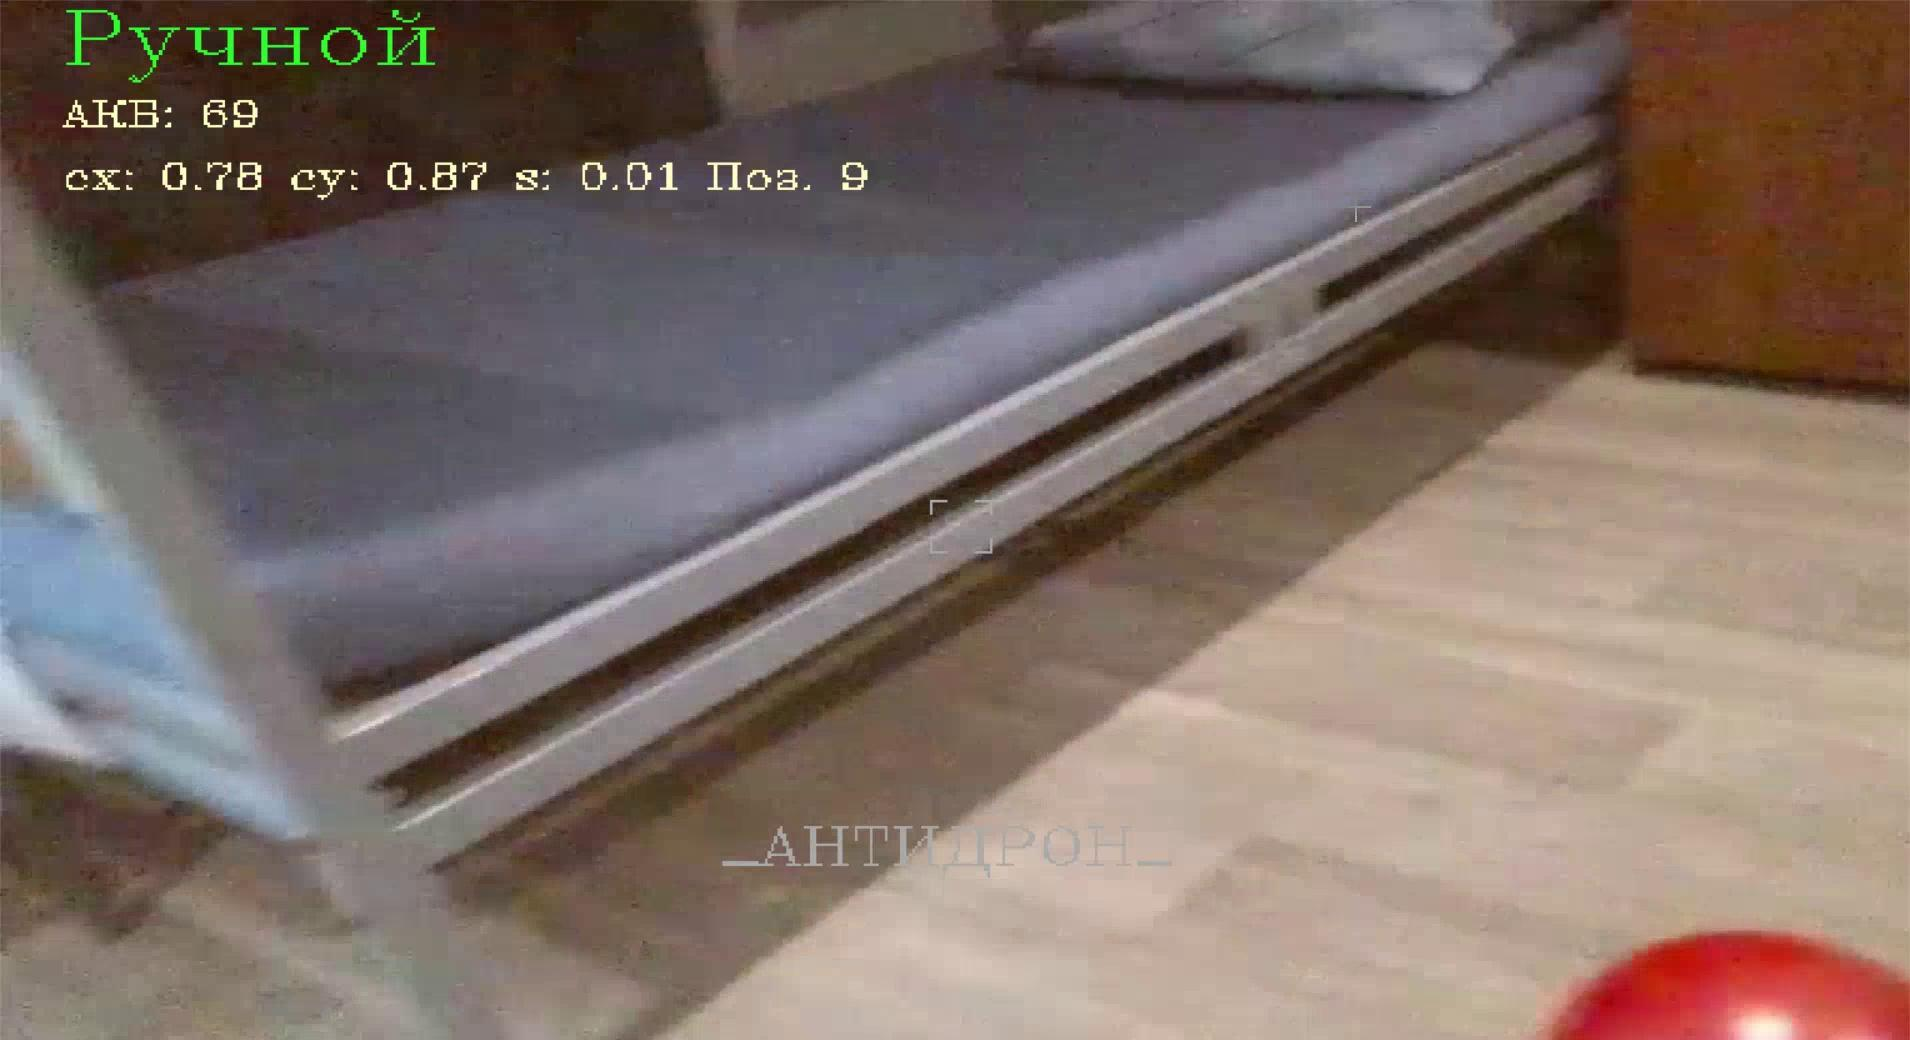red: (1512, 913, 1910, 1040)
